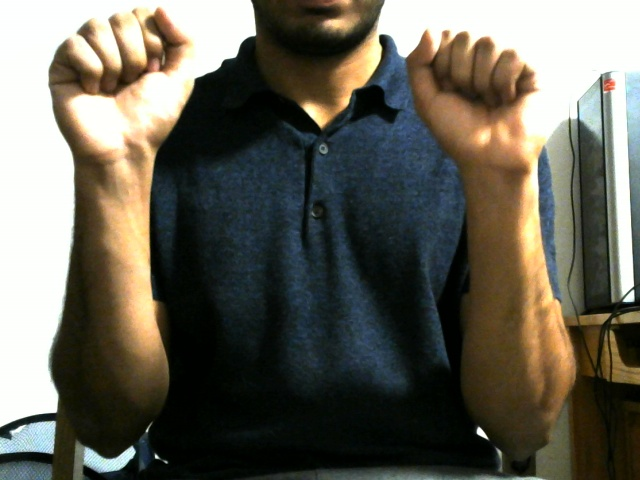can: (17, 3, 597, 437)
